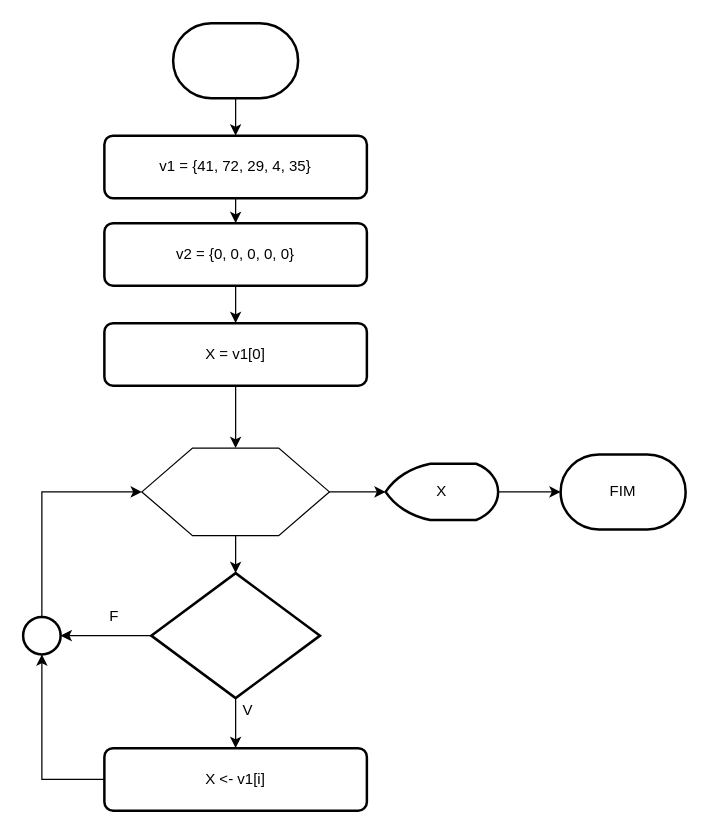
Some shapes in this 708 by 833 pixel diagram are drawn without their labels. The shapes that lost their labels are listed below. From the top down, each one's centre as x and y in pixels, then its label:
the point at 235,60: INICIO
the point at 235,491: i, 1, 4, 1
the point at 235,635: v1[i] > X
